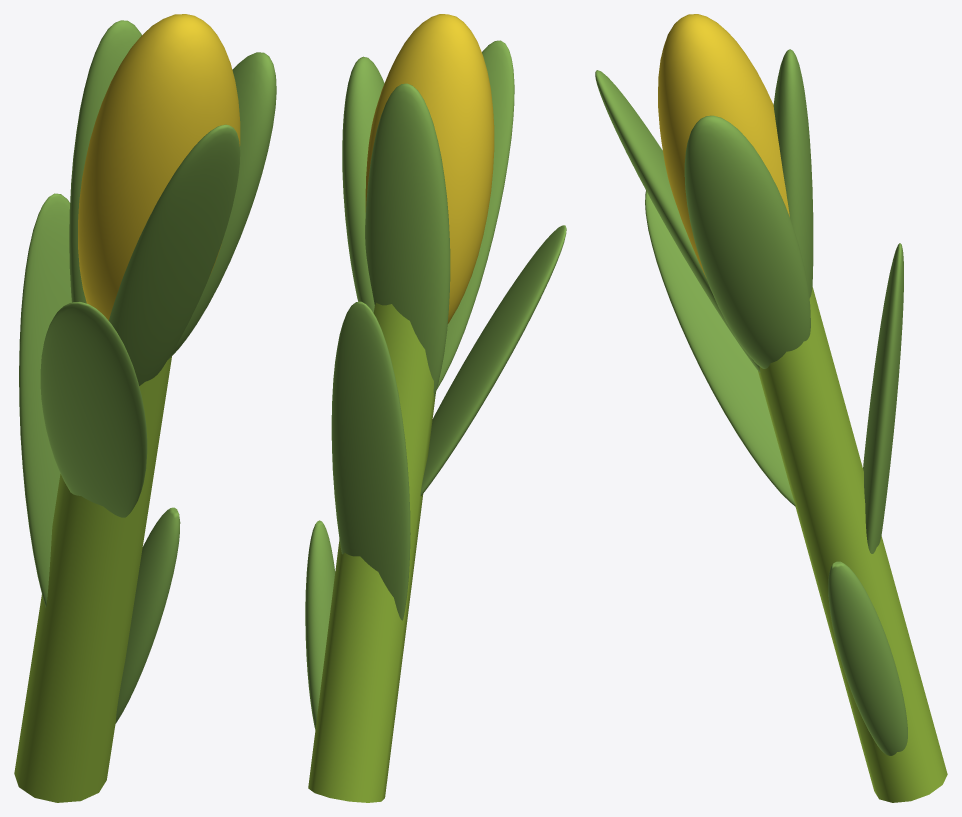
Rendered from planta_maiz_exportado.obj.
3 renders of one model, left to right at view 1: azimuth 30°, elevation 25°; view 2: azimuth 150°, elevation 25°; view 3: azimuth 270°, elevation 25°, orthographic. The views are drawn at different scales.
Visible parts, largest first — view 1: planta_maiz_exportado; view 2: planta_maiz_exportado; view 3: planta_maiz_exportado.
Part boxes in pixels (box(x1,y1,x2,y2)): planta_maiz_exportado: box(14, 14, 276, 802); planta_maiz_exportado: box(305, 14, 566, 802); planta_maiz_exportado: box(595, 14, 947, 802).
Size of the model in its own units: 0.191 by 0.677 by 0.2791.
